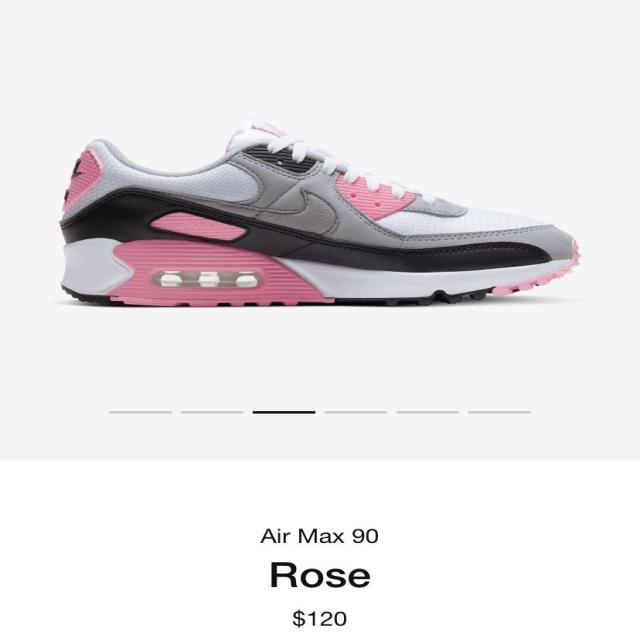shoes: (51, 108, 640, 342)
